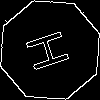H: (25, 25, 79, 74)
